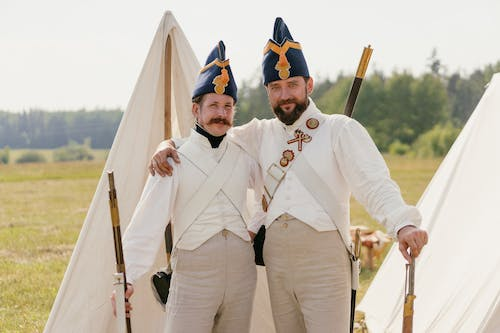gun: (106, 168, 134, 333), (400, 245, 418, 333)
knife: (348, 227, 363, 333)
